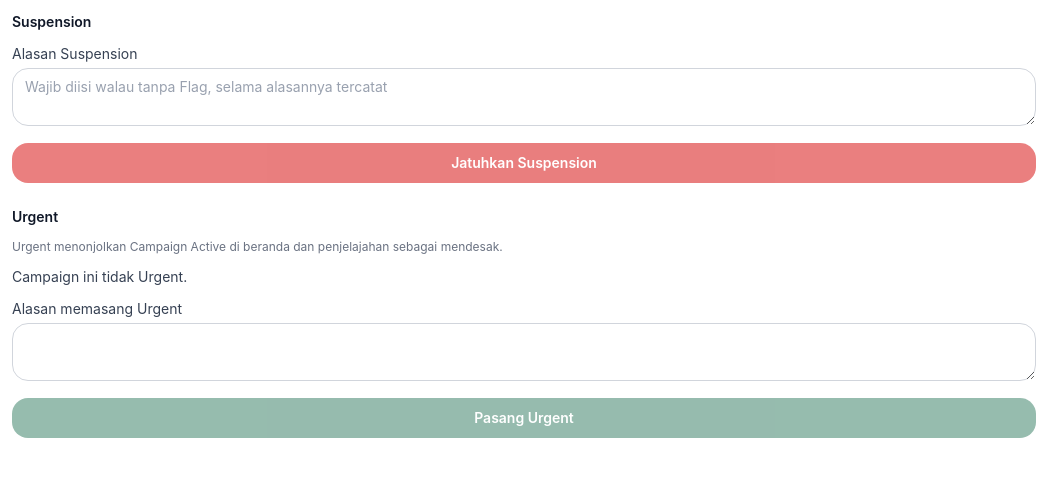
Test case: AdminCampaignLifecycleActions -- Urgent › shows the server's refusal in its own words
In the text box labelled "Alasan memasang Urgent": (524, 352) top-left (12, 323), bottom-right (1036, 381), type "Mendesak."
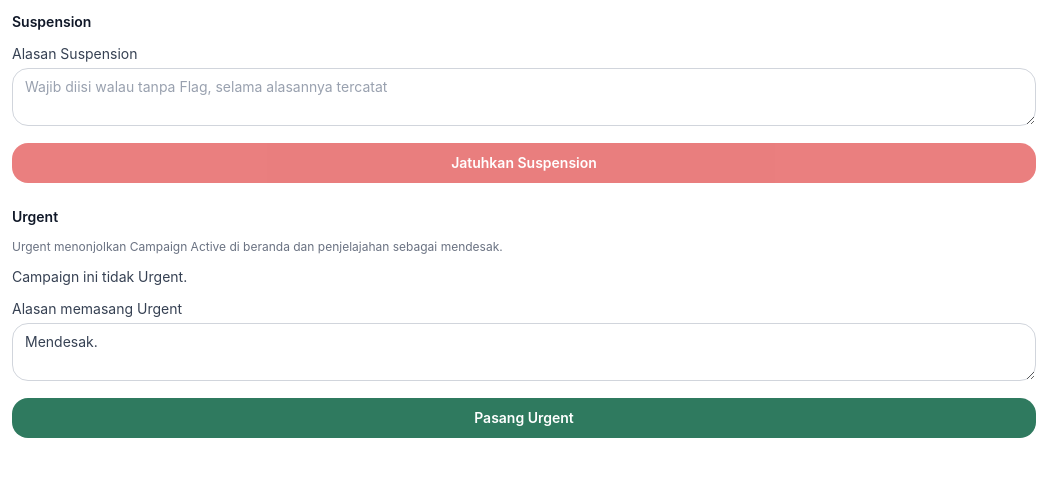
Click the button "Pasang Urgent": (524, 418) top-left (12, 398), bottom-right (1036, 438)
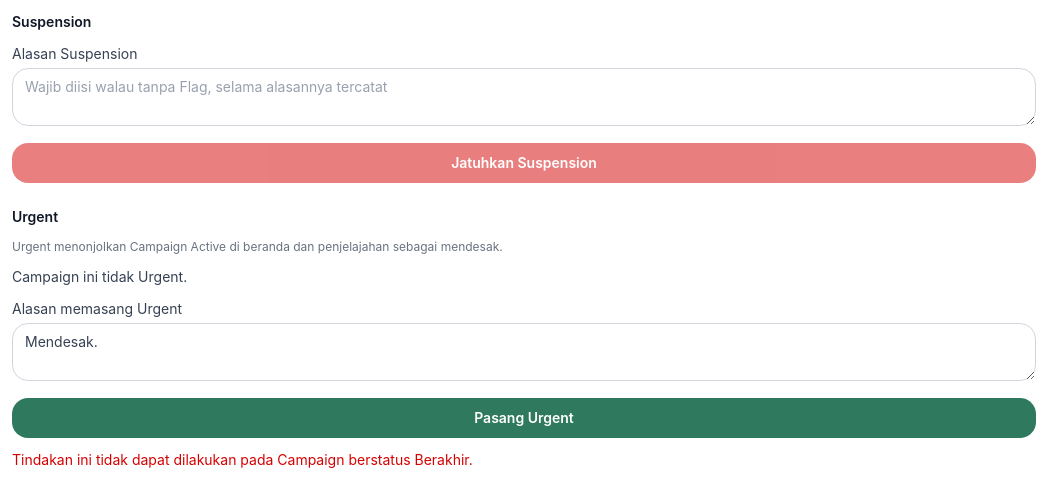
Check: the message reads "Tindakan ini tidak dapat dilakukan pada Campaign berstatus Berakhir.", box top-left (12, 451), bottom-right (473, 468)
